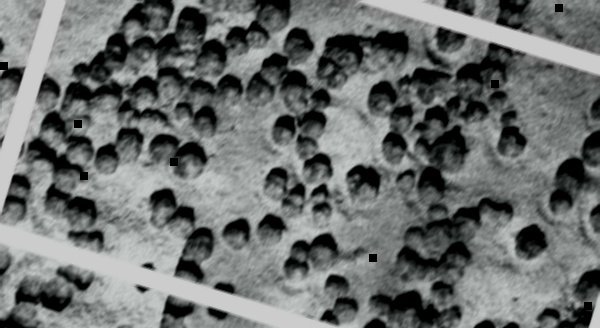halobolite: (316, 30, 364, 81), (435, 1, 478, 47), (217, 209, 257, 254), (189, 17, 224, 68), (435, 243, 475, 287), (428, 128, 470, 169), (357, 36, 402, 74), (249, 1, 294, 35), (129, 255, 161, 299), (495, 123, 534, 159), (394, 102, 429, 142), (156, 184, 187, 229), (35, 178, 73, 214), (115, 124, 148, 165), (393, 245, 426, 286), (495, 94, 523, 141), (259, 51, 288, 96), (117, 65, 153, 101), (81, 103, 113, 143), (184, 225, 215, 266), (390, 139, 421, 180), (78, 59, 112, 96), (203, 286, 235, 325), (145, 85, 176, 125), (548, 186, 581, 223), (457, 58, 489, 96), (411, 185, 439, 227), (223, 49, 253, 88), (395, 34, 425, 73), (133, 2, 172, 32), (58, 108, 87, 148), (323, 161, 356, 196), (557, 154, 589, 190), (106, 91, 136, 129), (200, 105, 233, 139), (306, 235, 339, 269), (284, 26, 316, 61), (516, 225, 548, 260), (96, 188, 123, 229), (29, 73, 59, 108), (93, 140, 122, 176), (8, 166, 35, 204), (430, 171, 462, 203), (72, 268, 102, 302), (43, 131, 75, 162), (279, 162, 309, 195), (171, 112, 200, 146), (282, 72, 309, 108), (433, 205, 463, 237), (62, 153, 90, 187), (318, 76, 346, 110), (575, 264, 600, 301), (1, 195, 28, 229), (557, 301, 591, 328), (79, 213, 108, 244), (7, 290, 40, 317), (63, 199, 92, 229), (1, 66, 29, 97), (42, 269, 74, 296), (286, 266, 319, 291), (454, 82, 479, 115), (305, 201, 333, 229), (260, 218, 286, 248), (375, 83, 406, 108), (161, 151, 187, 180), (209, 80, 235, 109), (170, 246, 193, 278), (343, 289, 373, 313), (161, 296, 195, 317), (265, 123, 291, 150), (152, 125, 174, 156), (7, 264, 32, 291), (392, 196, 414, 226), (330, 271, 358, 293), (172, 67, 193, 96), (264, 147, 287, 173), (287, 247, 313, 268), (414, 65, 435, 91), (188, 61, 212, 82), (379, 298, 403, 319), (367, 152, 388, 173), (293, 190, 311, 212), (141, 154, 160, 173), (432, 48, 450, 68), (335, 303, 357, 318)
